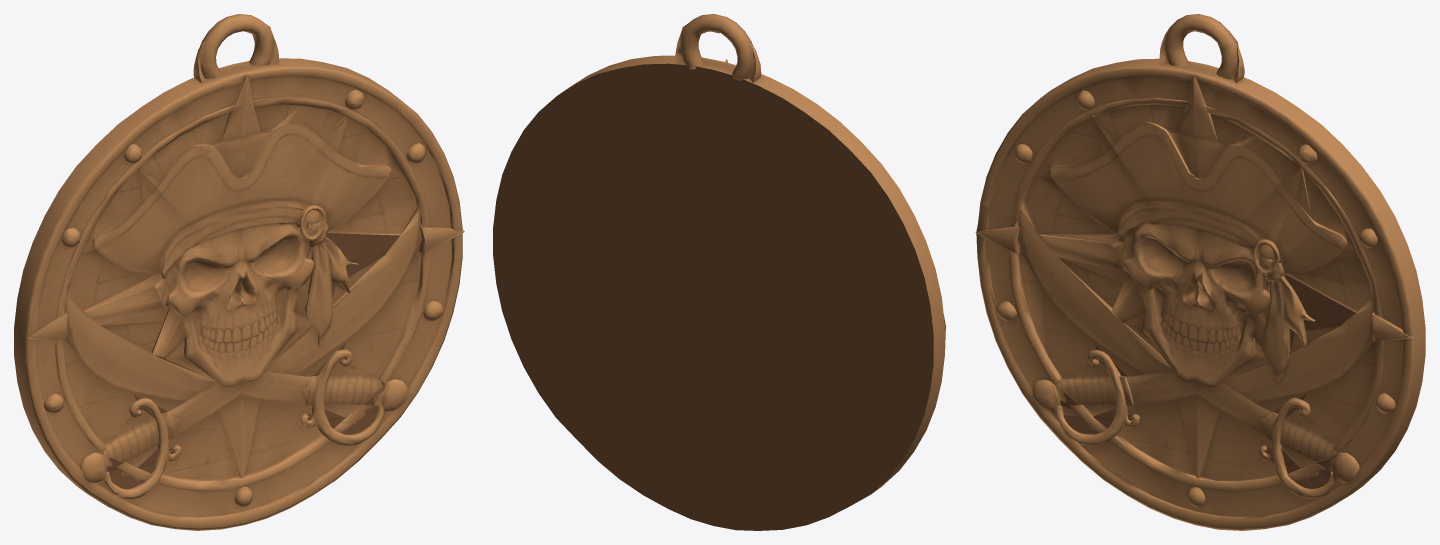
The model's file is bronz_korsan.glb.
The picture shows the model from 3 angles, left to right: view 1: azimuth 30°, elevation 25°; view 2: azimuth 150°, elevation 25°; view 3: azimuth 330°, elevation 25°; orthographic projection.
Visible parts, largest first — view 1: bronz_korsan_AO_candidate; view 2: bronz_korsan_AO_candidate; view 3: bronz_korsan_AO_candidate.
Boxes of the visible parts, bbox=[...] form: bronz_korsan_AO_candidate: bbox=[14, 14, 464, 530]; bronz_korsan_AO_candidate: bbox=[493, 14, 946, 530]; bronz_korsan_AO_candidate: bbox=[975, 14, 1425, 530].
Size of the model in its own units: 0.9081 by 1 by 0.0533.
1 material, 1 textured.
